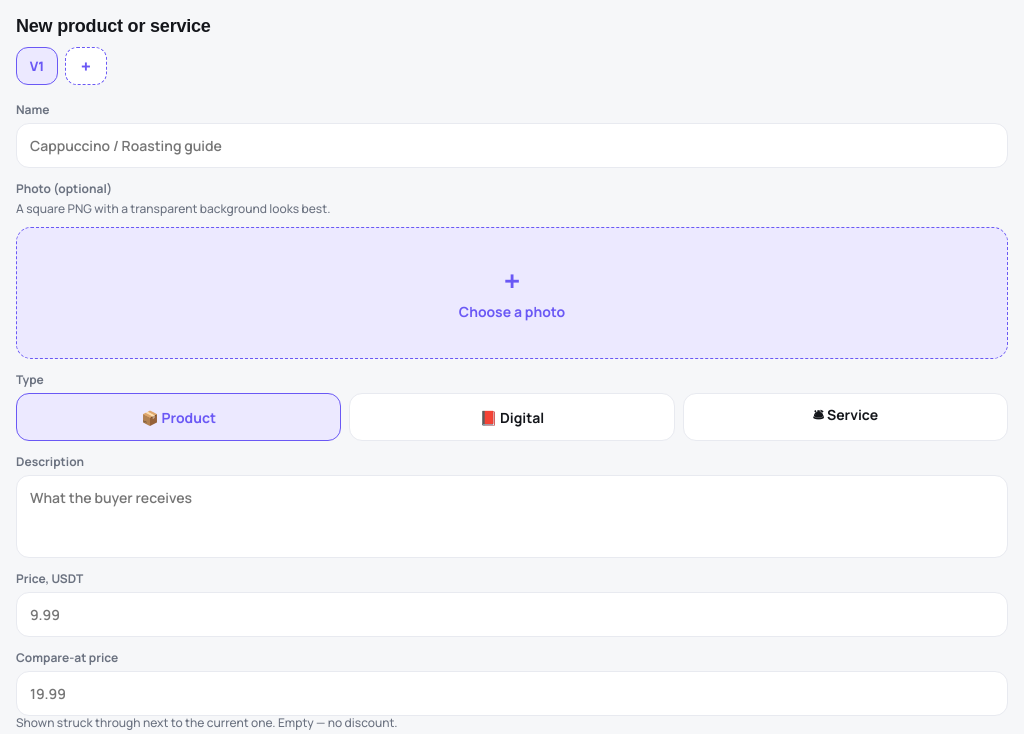
Scenario: ProductFormView — упёрлись в лимит тарифа › обычная ошибка сохранения по-прежнему строкой
This screenshot has width=1024, height=734.
Step 1. Type "Товар" into the field with placeholder "Cappuccino / Roasting guide" → (512, 146), box [16,123,1008,168]
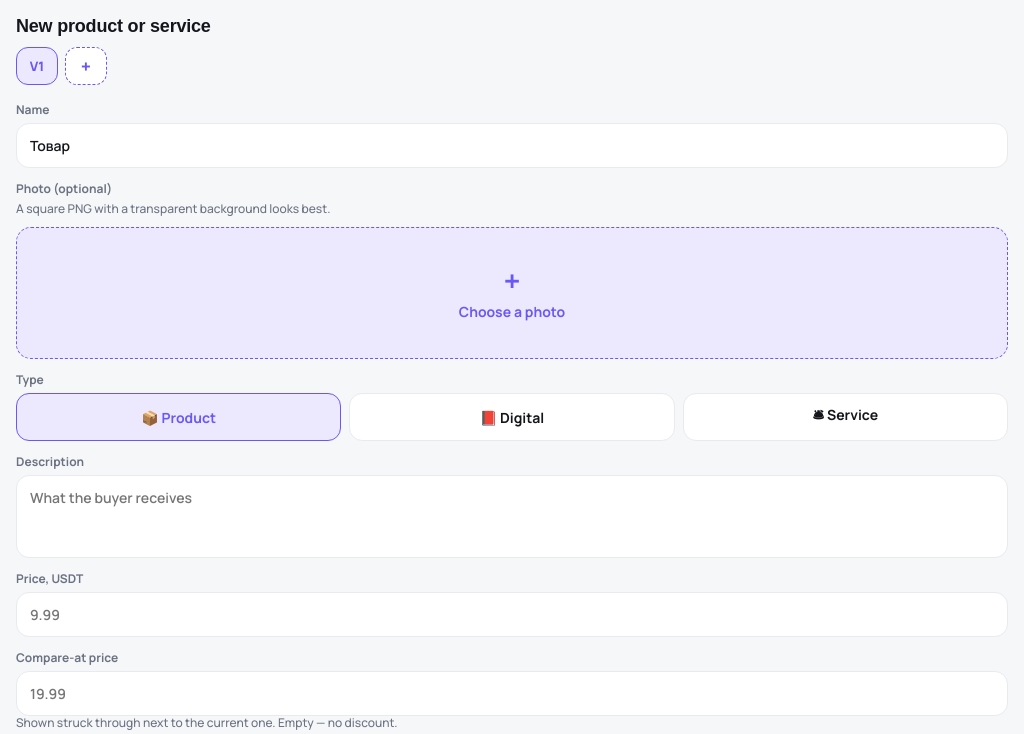
Step 2. Type "5" into the field with placeholder "9.99" → (512, 614), box [16,592,1008,637]
(page scrolled)
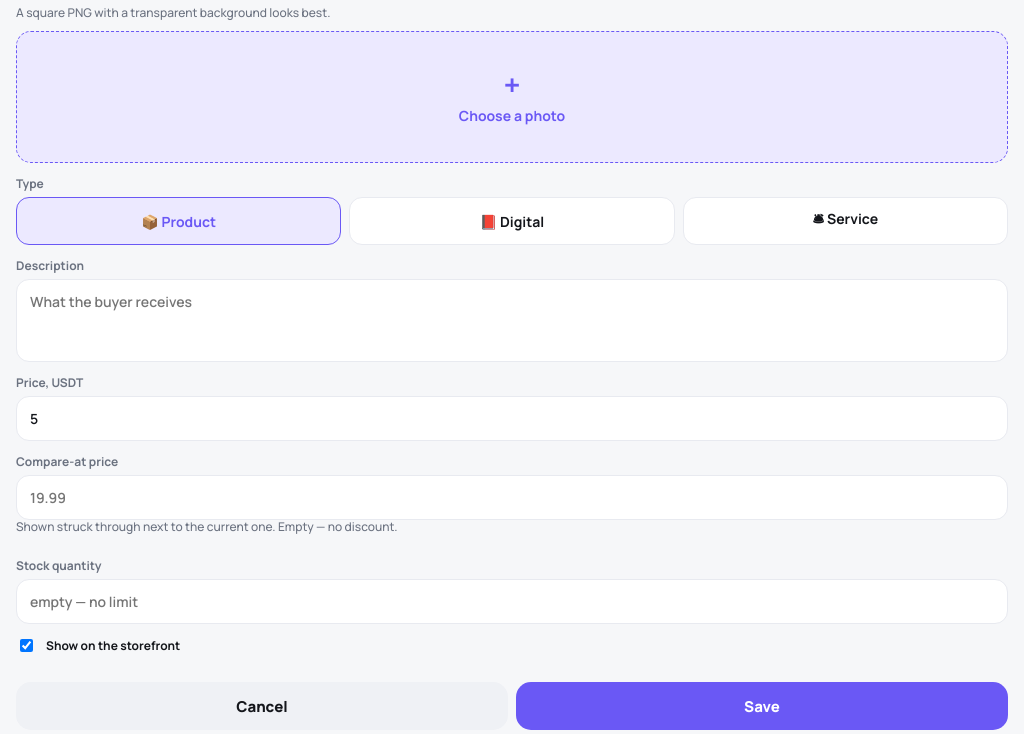
Step 3. Click the button "Save" → (762, 706), box [516,682,1008,730]
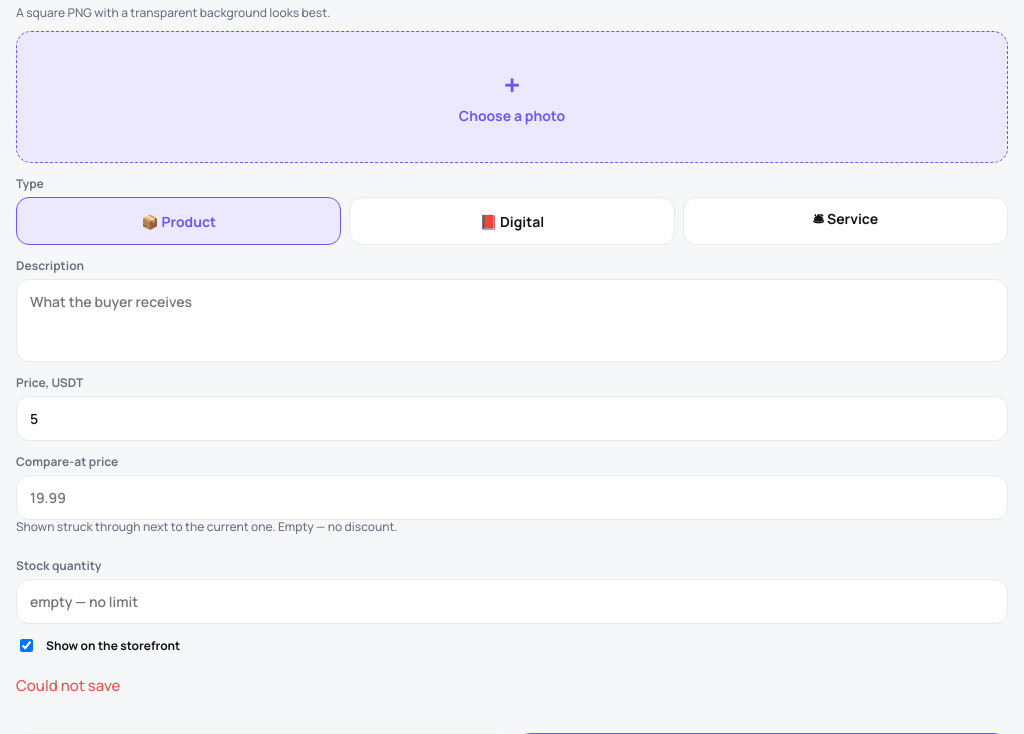
Now the text "Could not save" is shown, box [16,675,120,696]
